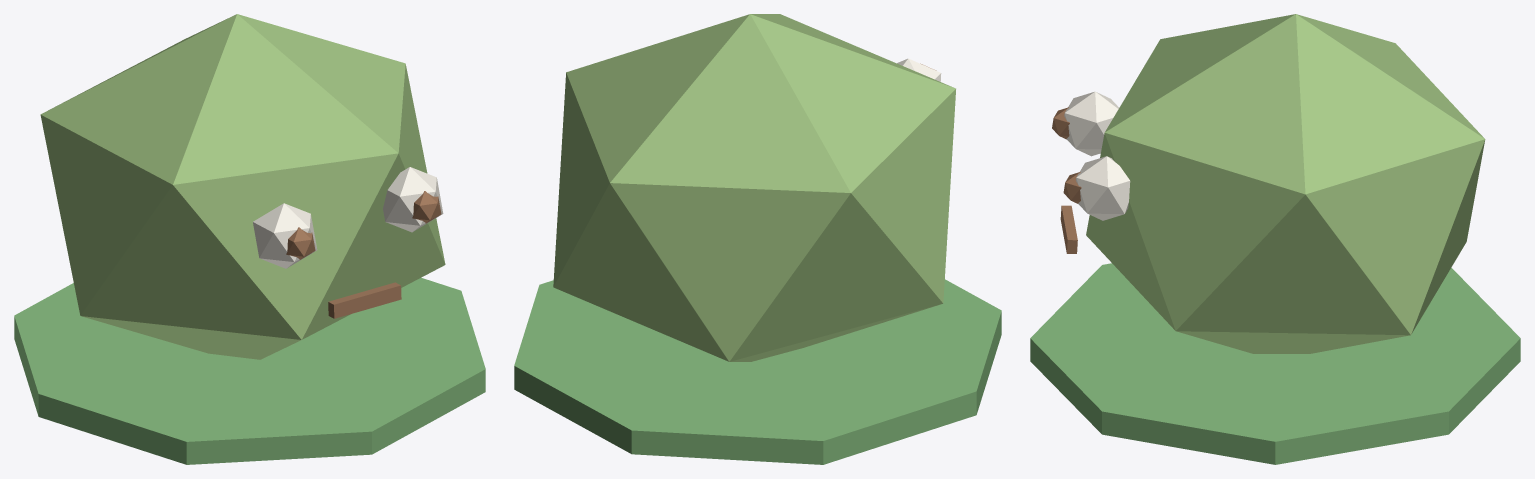
The model's file is npcpose_slime_idle_08.glb.
3 views of the same model, side by side, from view 1: azimuth 30°, elevation 25°; view 2: azimuth 150°, elevation 25°; view 3: azimuth 270°, elevation 25° (orthographic). The views are drawn at different scales.
Visible parts, largest first — view 1: npcpose; view 2: npcpose; view 3: npcpose.
Boxes of the visible parts, x1,y1,x2,y2 form: npcpose: (14, 14, 485, 464); npcpose: (514, 14, 1001, 464); npcpose: (1030, 14, 1520, 464).
Size of the model in its own units: 0.96 by 0.7475 by 0.96.
